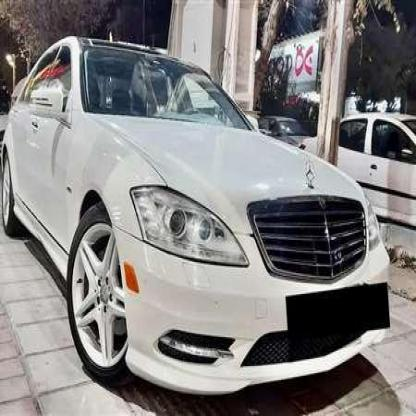Car: (0, 34, 391, 386), (305, 94, 416, 247)
